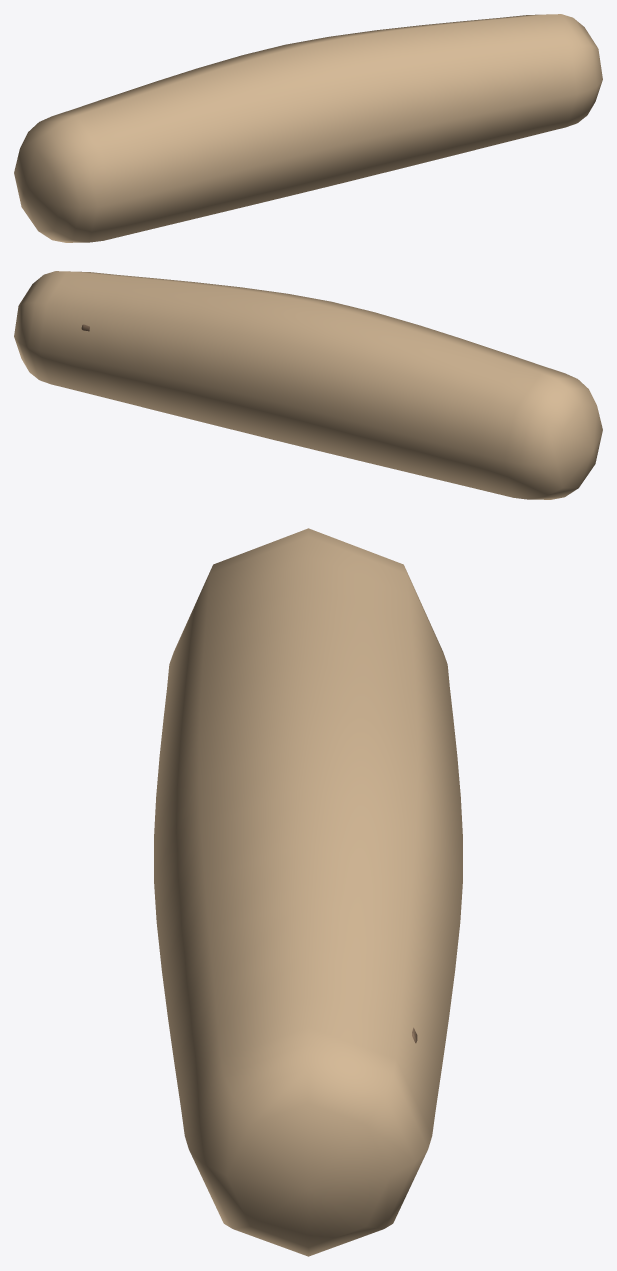
The model's file is reptiles-amphibians-and-minibeasts-cork-bark-log-b7a34161__22465.glb.
3 renders of one model, top to bottom at view 1: azimuth 30°, elevation 25°; view 2: azimuth 150°, elevation 25°; view 3: azimuth 270°, elevation 25°, orthographic. The views are drawn at different scales.
Parts seen in each view (by area): view 1: cork-bark-log; view 2: cork-bark-log; view 3: cork-bark-log.
Part boxes in pixels (left/top/right/bottom): cork-bark-log: left=14, top=14, right=602, bottom=242; cork-bark-log: left=14, top=271, right=602, bottom=499; cork-bark-log: left=154, top=528, right=462, bottom=1256.
Size of the model in its own units: 1.71 by 0.4 by 0.4.
